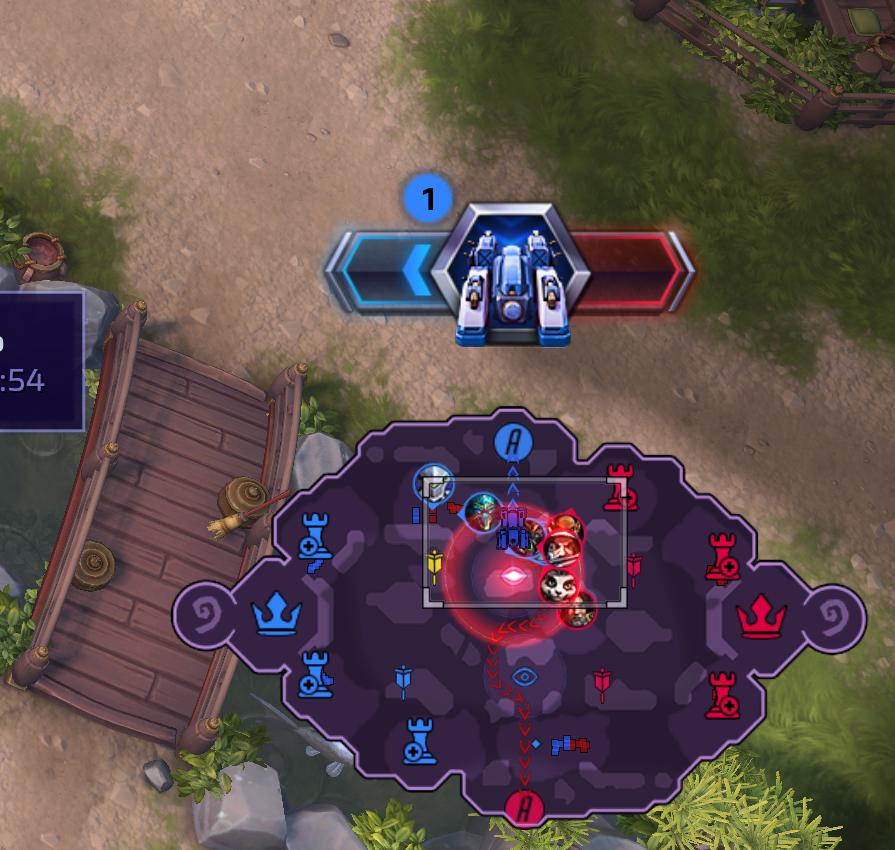blue player: (458, 492, 507, 536), (411, 462, 450, 506), (508, 517, 545, 557)
red player: (560, 592, 597, 630), (542, 531, 580, 567)
